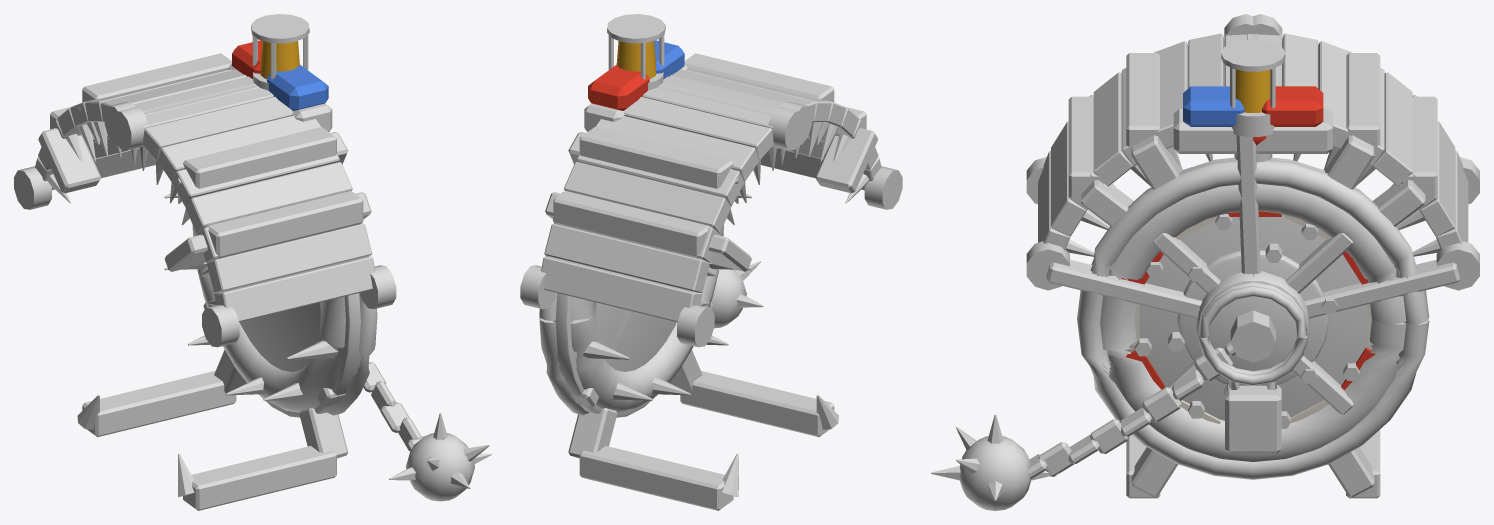
File: wheel_clamps.glb
The picture shows the model from 3 angles, left to right: view 1: azimuth 30°, elevation 25°; view 2: azimuth 150°, elevation 25°; view 3: azimuth 270°, elevation 25°; orthographic projection. The views are drawn at different scales.
Visible parts, largest first — view 1: clamp_b, clamp_d, clamp_a, clamp_c, lamp_c_blue, lamp_d, lamp_c_red; view 2: clamp_b, clamp_d, clamp_a, clamp_c, lamp_c_red, lamp_d, lamp_c_blue; view 3: clamp_b, clamp_d, clamp_c, clamp_a, lamp_c_red, lamp_c_blue, lamp_d.
Boxes of the visible parts, x1,y1,x2,y2 form: clamp_b: (14,67,491,501); clamp_d: (77,14,348,510); clamp_a: (38,107,371,417); clamp_c: (44,64,377,417); lamp_c_blue: (267,65,328,110); lamp_d: (260,41,299,78); lamp_c_red: (232,40,262,78); clamp_b: (520,67,902,347); clamp_d: (568,14,838,510); clamp_a: (545,111,878,417); clamp_c: (539,64,877,417); lamp_c_red: (588,64,649,110); lamp_d: (616,41,656,78); lamp_c_blue: (654,40,684,78); clamp_b: (931,14,1479,510); clamp_d: (1100,40,1406,498); clamp_c: (1068,96,1437,479); clamp_a: (1068,96,1437,458); lamp_c_red: (1262,86,1323,126); lamp_c_blue: (1183,86,1244,126); lamp_d: (1235,69,1270,112).
Bounding box in the file's own units: 0.86 × 1.3 × 1.45.
